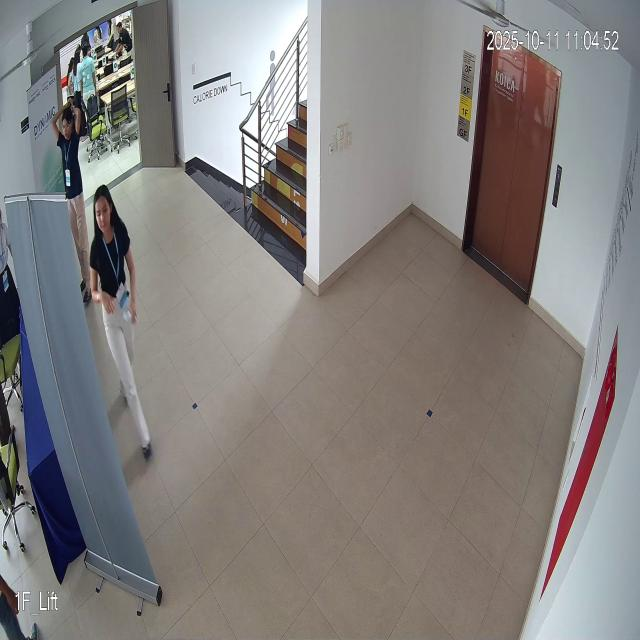face: (90, 182, 116, 236)
